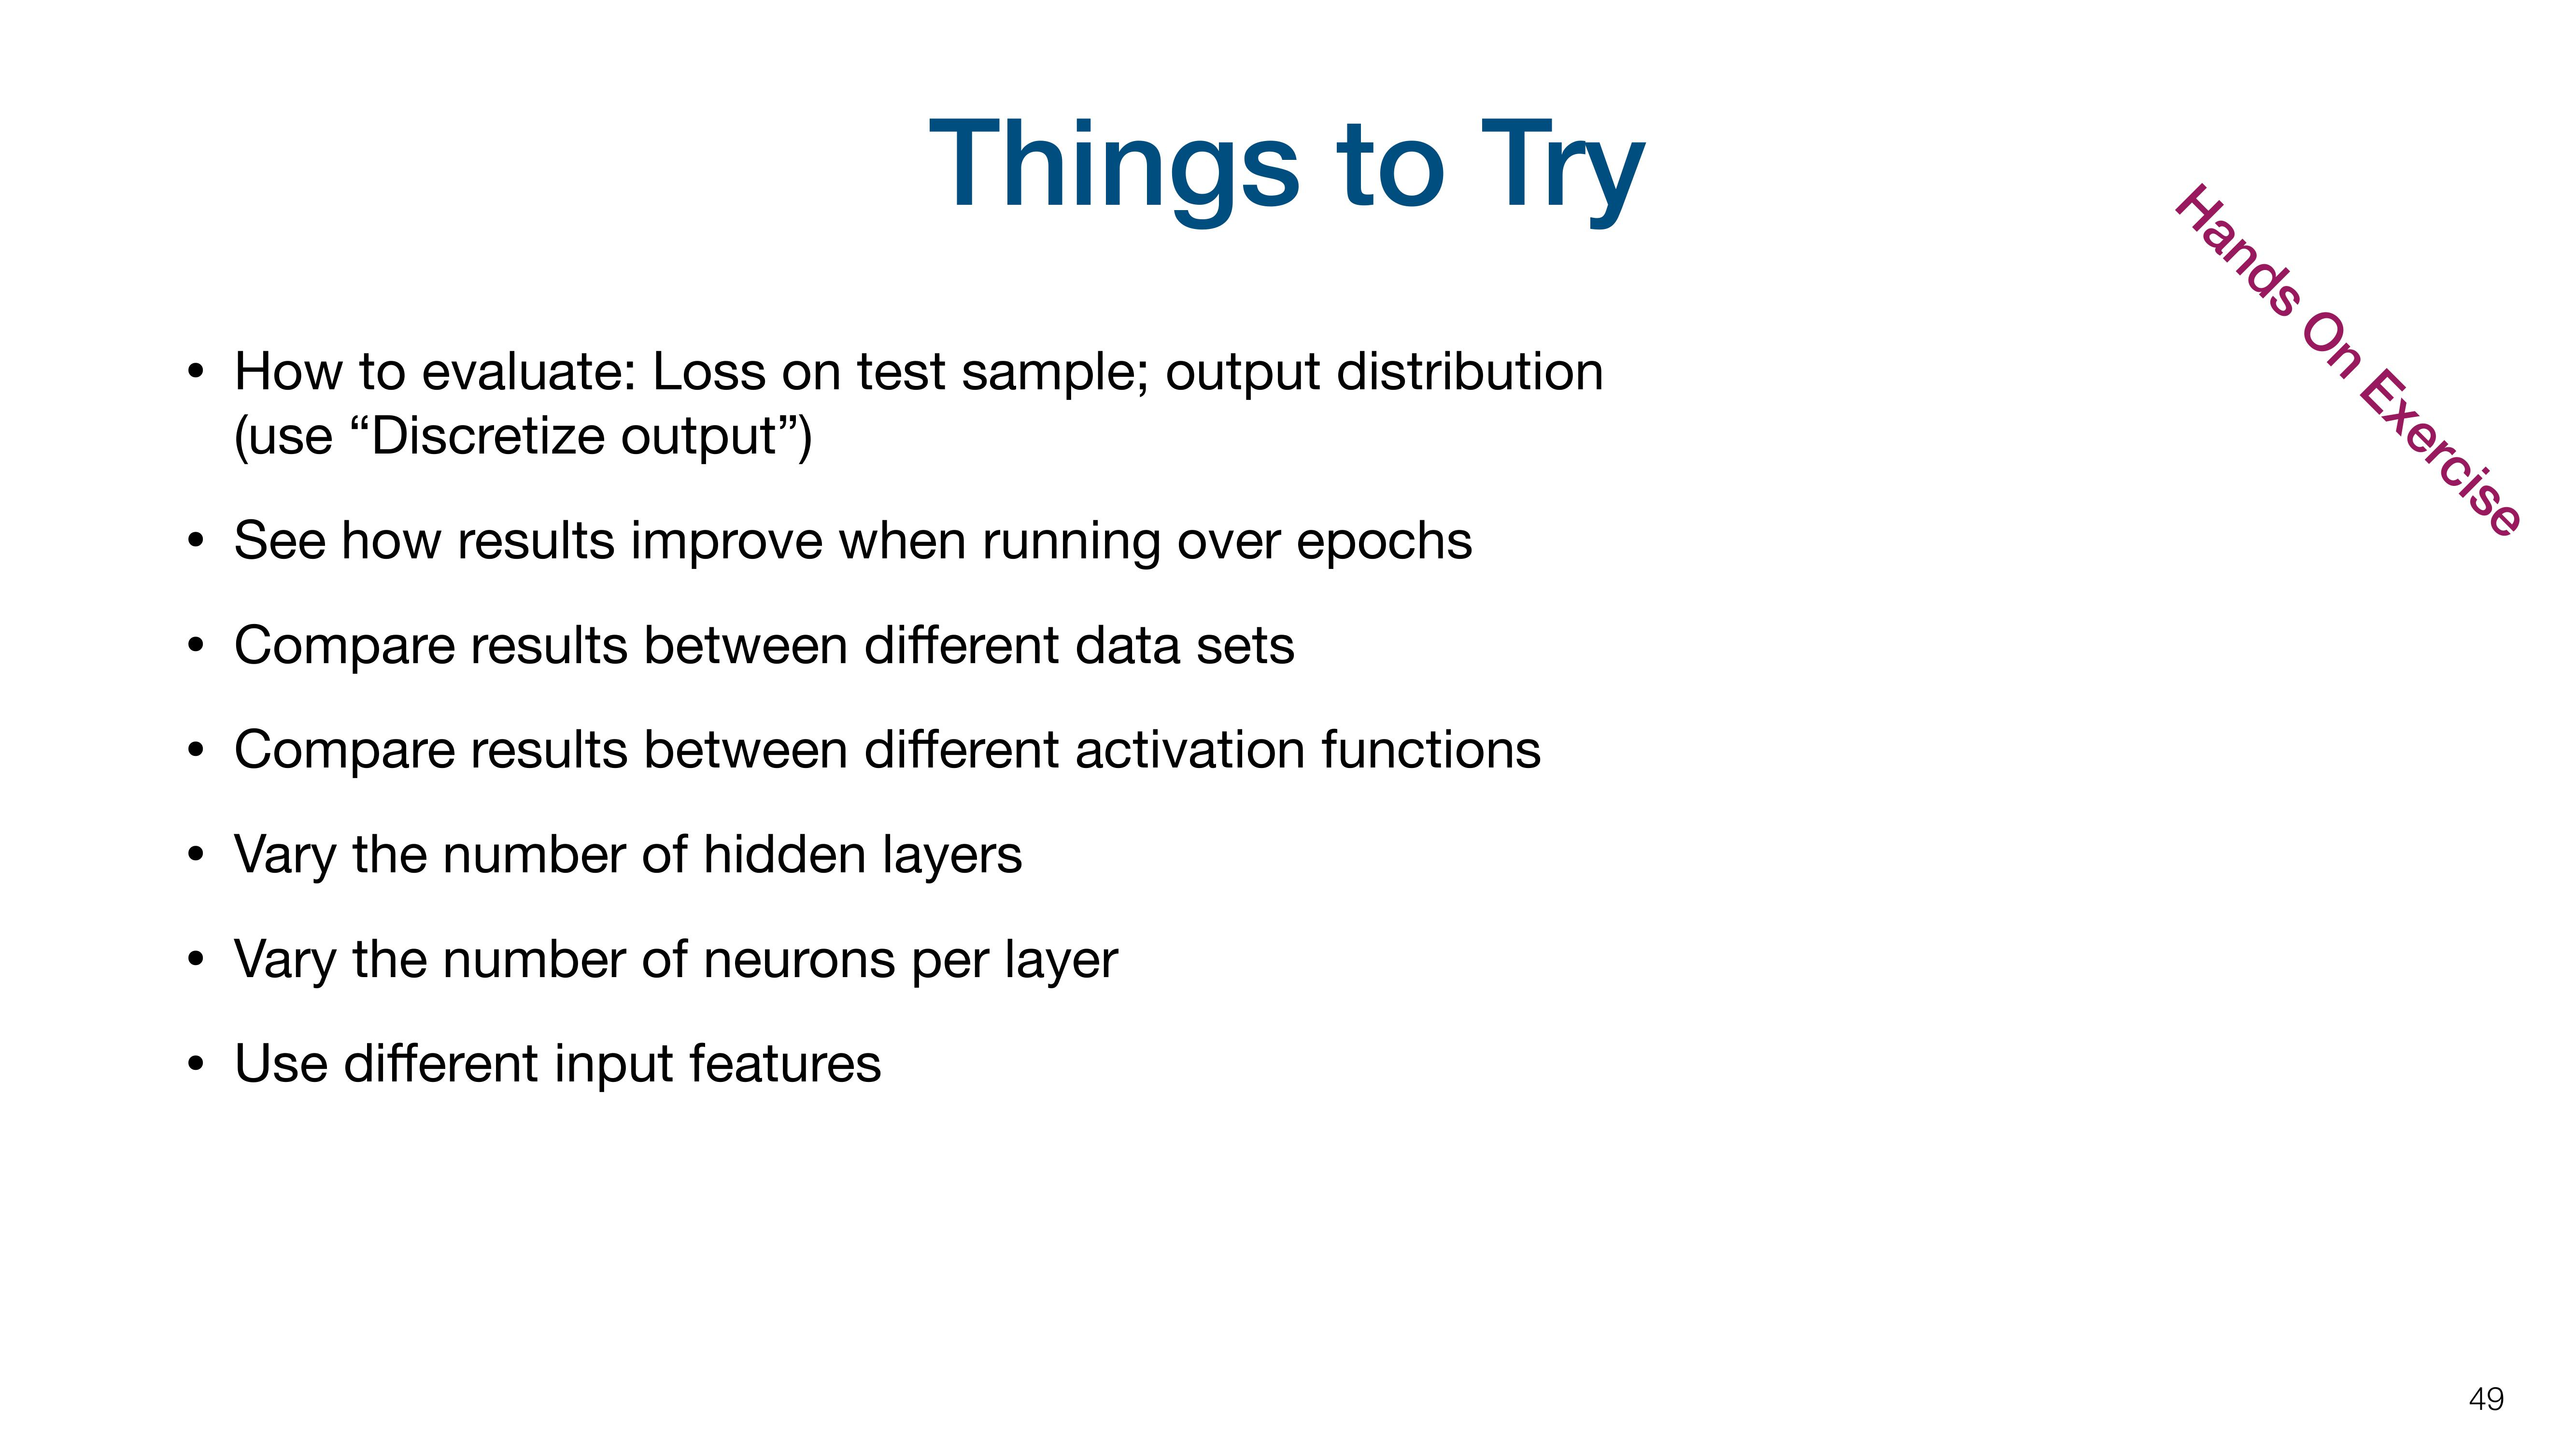Title: (890, 103, 1675, 257)
